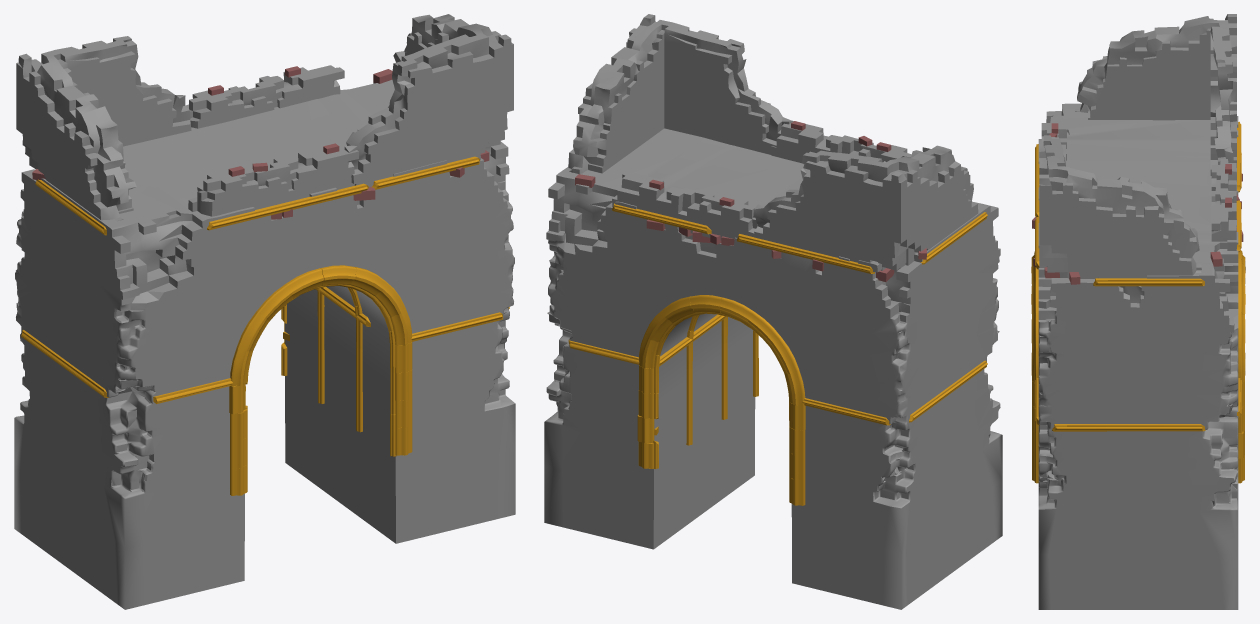
Rendered from SM_Big_Castle_Entrance.fbx.
The picture shows the model from 3 angles, left to right: view 1: azimuth 30°, elevation 25°; view 2: azimuth 150°, elevation 25°; view 3: azimuth 270°, elevation 25°; orthographic projection. The views are drawn at different scales.
Parts seen in each view (by area): view 1: SM_Big_Castle_Entrance_LOD0; view 2: SM_Big_Castle_Entrance_LOD0; view 3: SM_Big_Castle_Entrance_LOD0.
Part boxes in pixels (x1=…): SM_Big_Castle_Entrance_LOD0: x1=14, y1=14, x2=515, y2=609; SM_Big_Castle_Entrance_LOD0: x1=544, y1=14, x2=1002, y2=609; SM_Big_Castle_Entrance_LOD0: x1=1031, y1=14, x2=1245, y2=609.
Size of what is drawn, in the model's own units: 967 by 1107 by 498.
